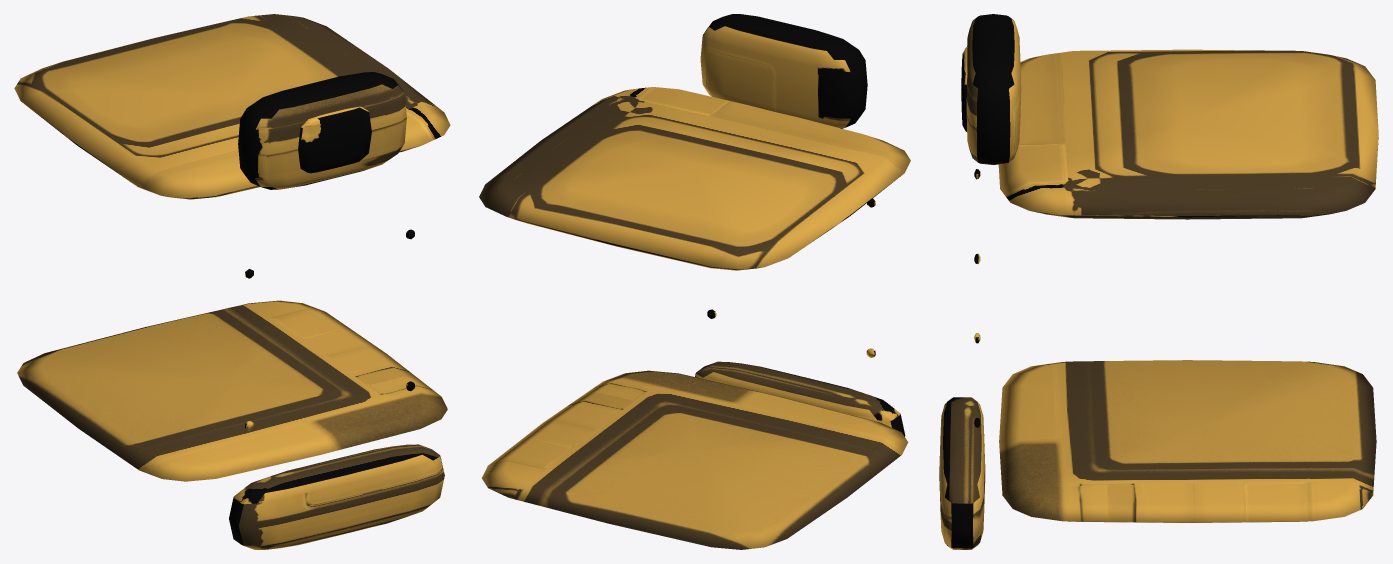
Rendered from Centinela_GrebaIzq_Oro.fbx.
3 renders of one model, left to right at view 1: azimuth 30°, elevation 25°; view 2: azimuth 150°, elevation 25°; view 3: azimuth 270°, elevation 25°, orthographic. The views are drawn at different scales.
Visible parts, largest first — view 1: Centinela_GrebaIzq_Oro; view 2: Centinela_GrebaIzq_Oro; view 3: Centinela_GrebaIzq_Oro.
Part boxes in pixels (x1,y1,x2,y2): Centinela_GrebaIzq_Oro: [14, 14, 450, 549]; Centinela_GrebaIzq_Oro: [479, 14, 910, 549]; Centinela_GrebaIzq_Oro: [939, 14, 1378, 549].
Bounding box in the file's own units: 1.2 × 1.6 × 1.36.
